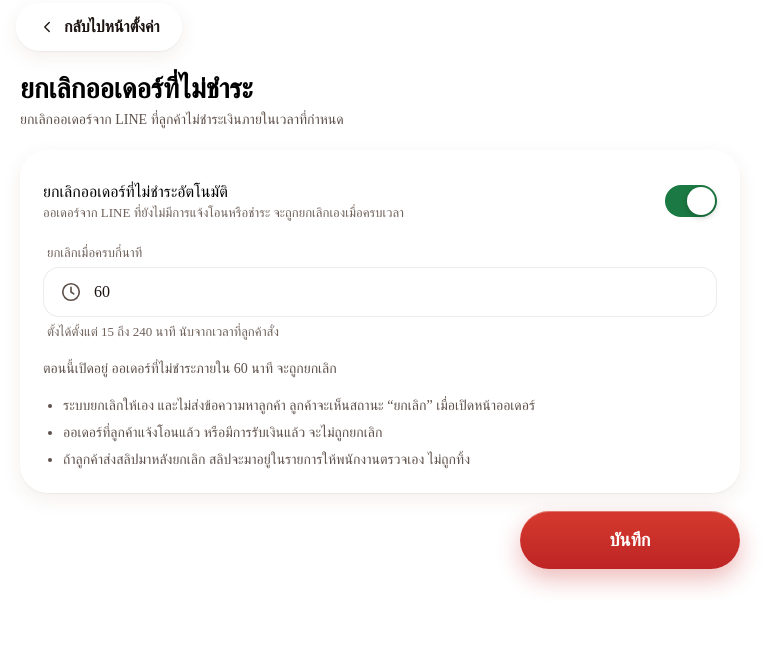
Test: cancelling unpaid LINE orders › turning it off saves enabled false
Click the checkbox.
click(691, 201)  # box [665,185,717,217]
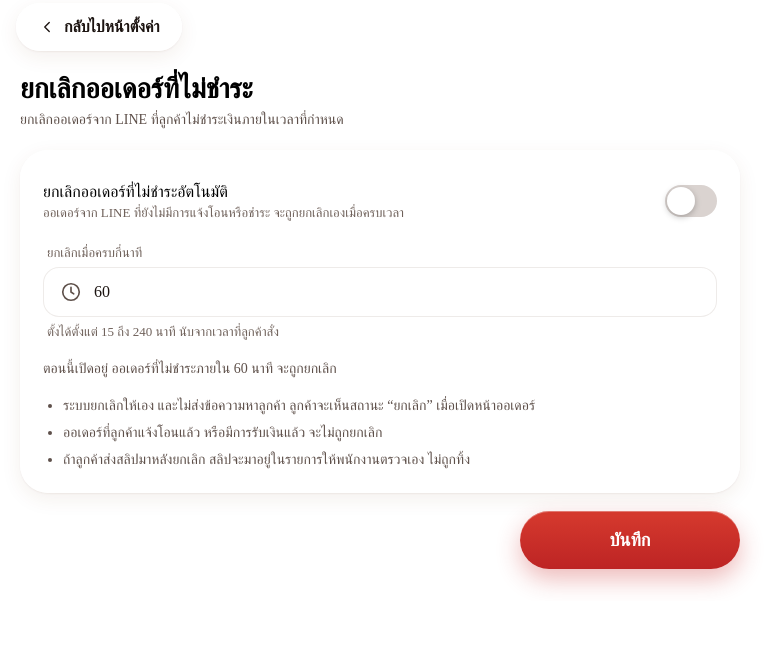
Click the button "บันทึก".
click(630, 540)  # box [520,511,740,569]
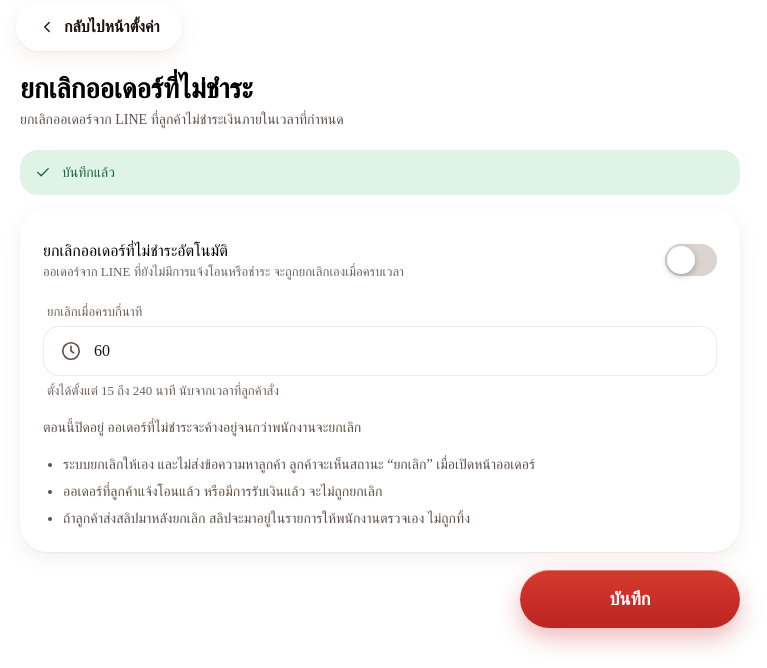
expect the text "บันทึกแล้ว" is shown: met, box [62,165,115,180]
expect the text "ตอนนี้ปิดอยู่ ออเดอร์ที่ไม่ชำระจะค้างอยู่จนกว่าพนักงานจะยกเลิก" is shown: met, box [43,420,361,435]
